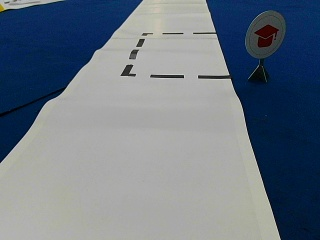school: (245, 10, 285, 57)
